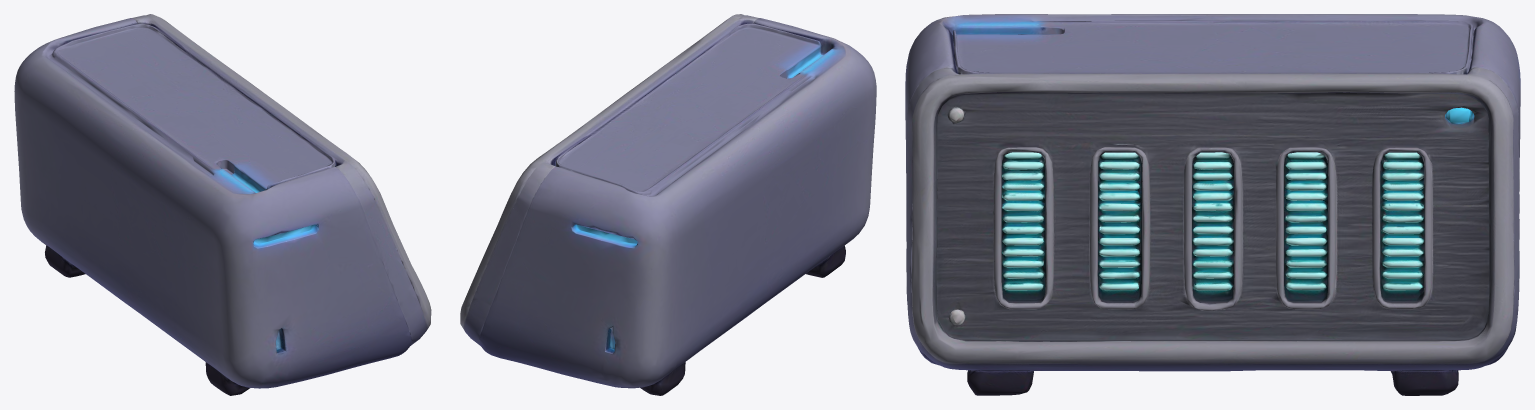
Rendered from equalizer.glb.
3 renders of one model, left to right at view 1: azimuth 30°, elevation 25°; view 2: azimuth 150°, elevation 25°; view 3: azimuth 270°, elevation 25°, orthographic. The views are drawn at different scales.
Parts seen in each view (by area): view 1: tripo_node_fdfb26d1-1520-43c4-82dc-a05ae5e5e4e7; view 2: tripo_node_fdfb26d1-1520-43c4-82dc-a05ae5e5e4e7; view 3: tripo_node_fdfb26d1-1520-43c4-82dc-a05ae5e5e4e7.
Part boxes in pixels (bbox=[...]): tripo_node_fdfb26d1-1520-43c4-82dc-a05ae5e5e4e7: bbox=[14, 14, 431, 395]; tripo_node_fdfb26d1-1520-43c4-82dc-a05ae5e5e4e7: bbox=[460, 14, 876, 395]; tripo_node_fdfb26d1-1520-43c4-82dc-a05ae5e5e4e7: bbox=[905, 14, 1520, 395].
Size of the model in its own units: 0.5044 by 0.4985 by 0.9794.
Materials: 1 (1 with a texture image).
